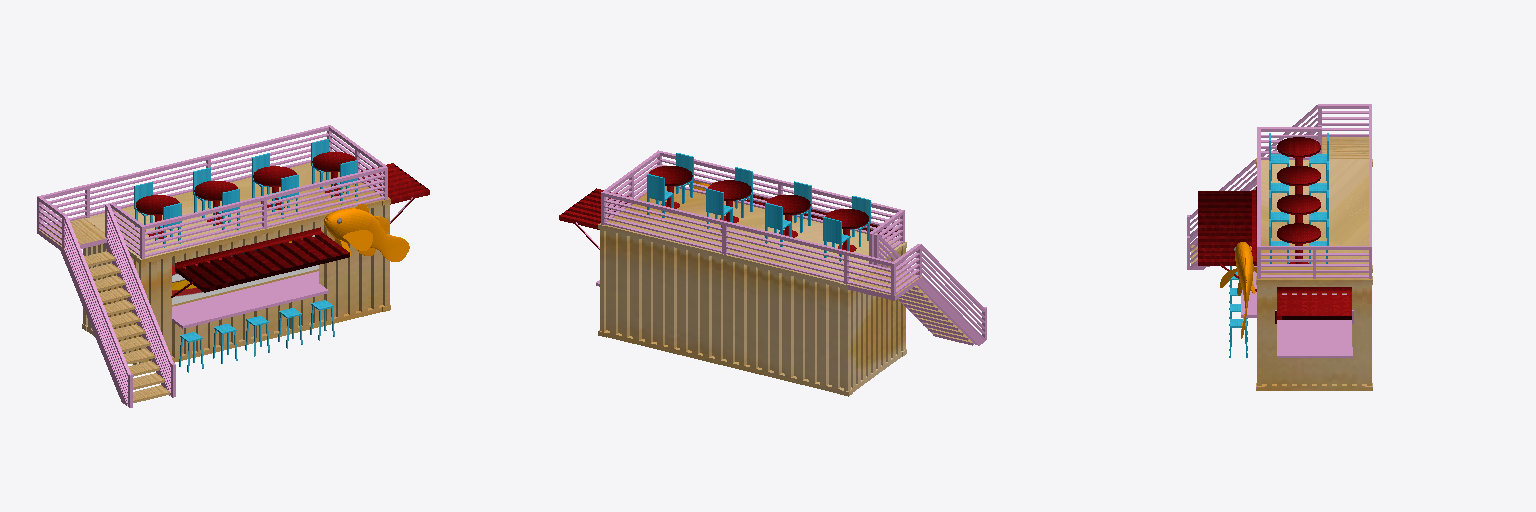
3 views of the same model, side by side, from view 1: azimuth 30°, elevation 25°; view 2: azimuth 150°, elevation 25°; view 3: azimuth 270°, elevation 25° (orthographic).
Visible parts, largest first — view 1: container_cafe_Cube_008, clownfish_dxf_001; view 2: container_cafe_Cube_008; view 3: container_cafe_Cube_008, clownfish_dxf_001.
Part boxes in pixels (bbox=[...]): container_cafe_Cube_008: bbox=[37, 125, 429, 407]; clownfish_dxf_001: bbox=[324, 204, 409, 261]; container_cafe_Cube_008: bbox=[559, 150, 986, 396]; container_cafe_Cube_008: bbox=[1187, 104, 1372, 390]; clownfish_dxf_001: bbox=[1220, 242, 1256, 338].
Size of the model in its own units: 28.02 by 11.75 by 13.11.
8 materials, 6 textured.